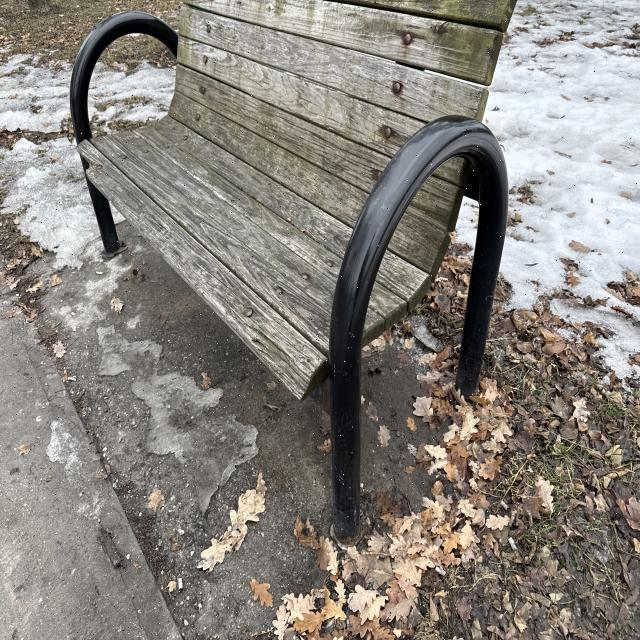Bench: (226, 0, 517, 504), (52, 23, 500, 282)
